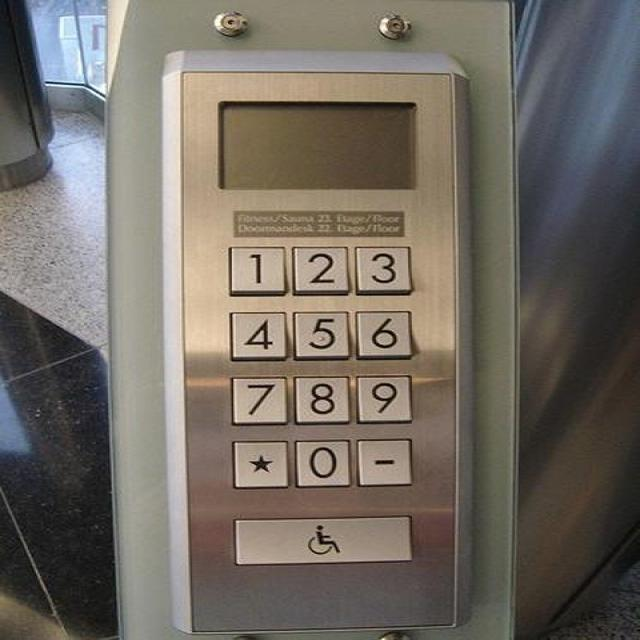-: (353, 435, 415, 487)
0: (291, 436, 353, 488)
1: (223, 243, 289, 296)
2: (288, 242, 351, 296)
3: (351, 241, 416, 295)
4: (226, 308, 290, 362)
5: (289, 307, 352, 361)
6: (351, 307, 416, 361)
7: (227, 373, 289, 425)
8: (289, 372, 352, 425)
9: (350, 372, 414, 425)
CH: (231, 513, 416, 567)
led: (211, 96, 420, 191)
s: (227, 437, 290, 489)
